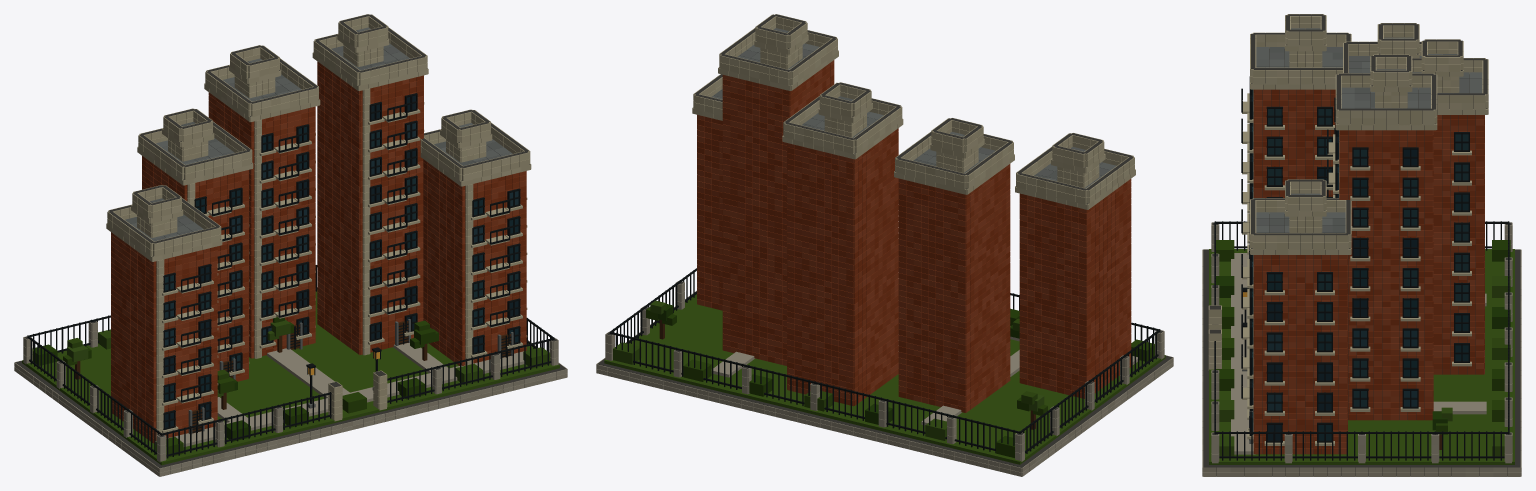
The model's file is SM_Mapa_057.fbx.
3 renders of one model, left to right at view 1: azimuth 30°, elevation 25°; view 2: azimuth 150°, elevation 25°; view 3: azimuth 270°, elevation 25°, orthographic. The views are drawn at different scales.
Parts seen in each view (by area): view 1: SM_Mapa_057; view 2: SM_Mapa_057; view 3: SM_Mapa_057.
Part boxes in pixels (x1,y1,x2,y2): SM_Mapa_057: [14, 14, 567, 476]; SM_Mapa_057: [596, 14, 1173, 476]; SM_Mapa_057: [1202, 14, 1521, 476].
Size of the model in its own units: 32 by 19.74 by 23.89.
